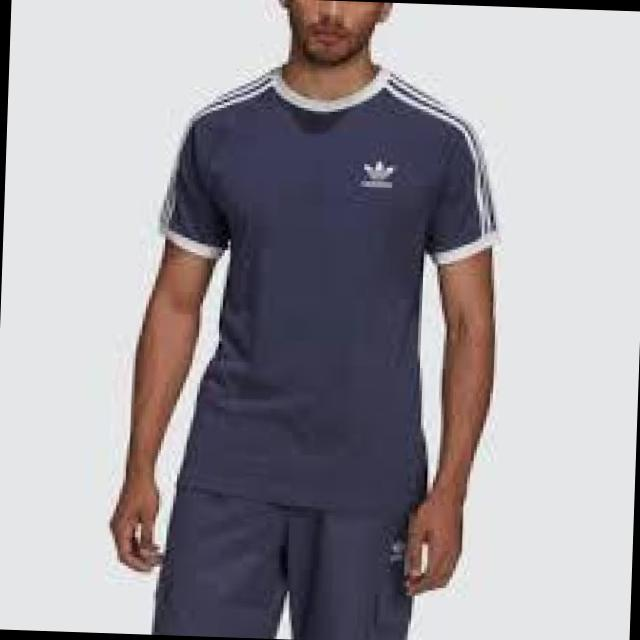Tshirt: (119, 58, 512, 526)
